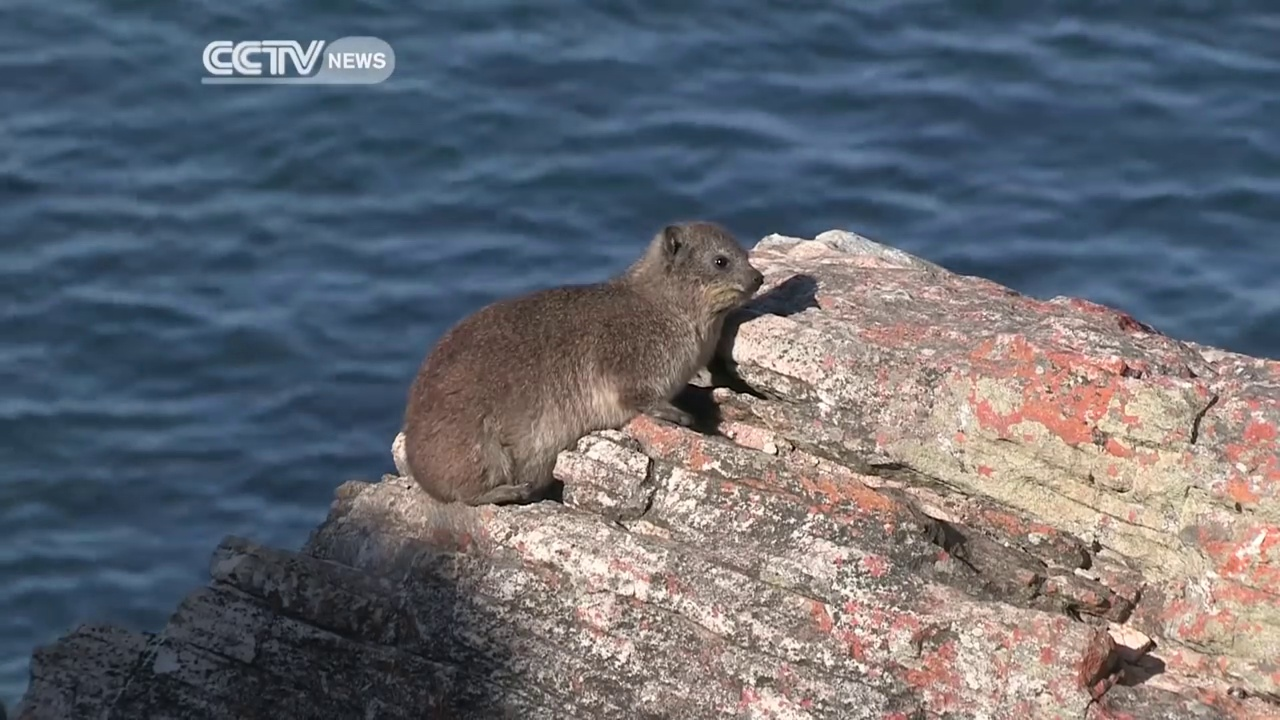Rock Hyrex: (402, 219, 765, 525)
